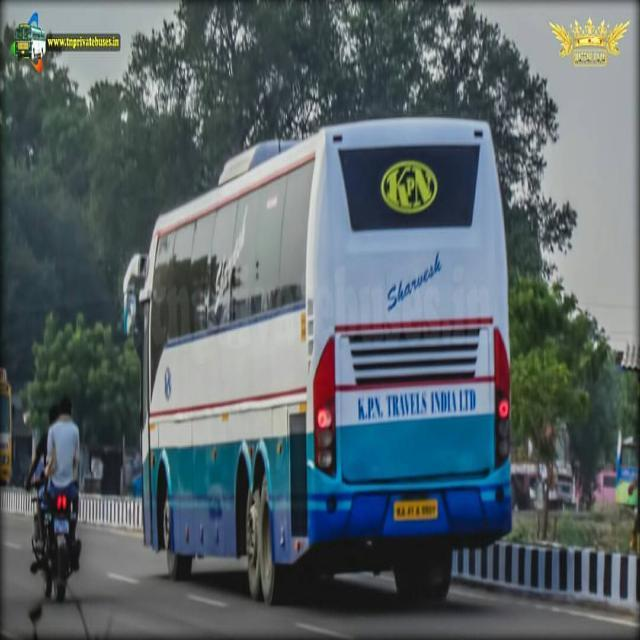Bus: (122, 115, 518, 608)
